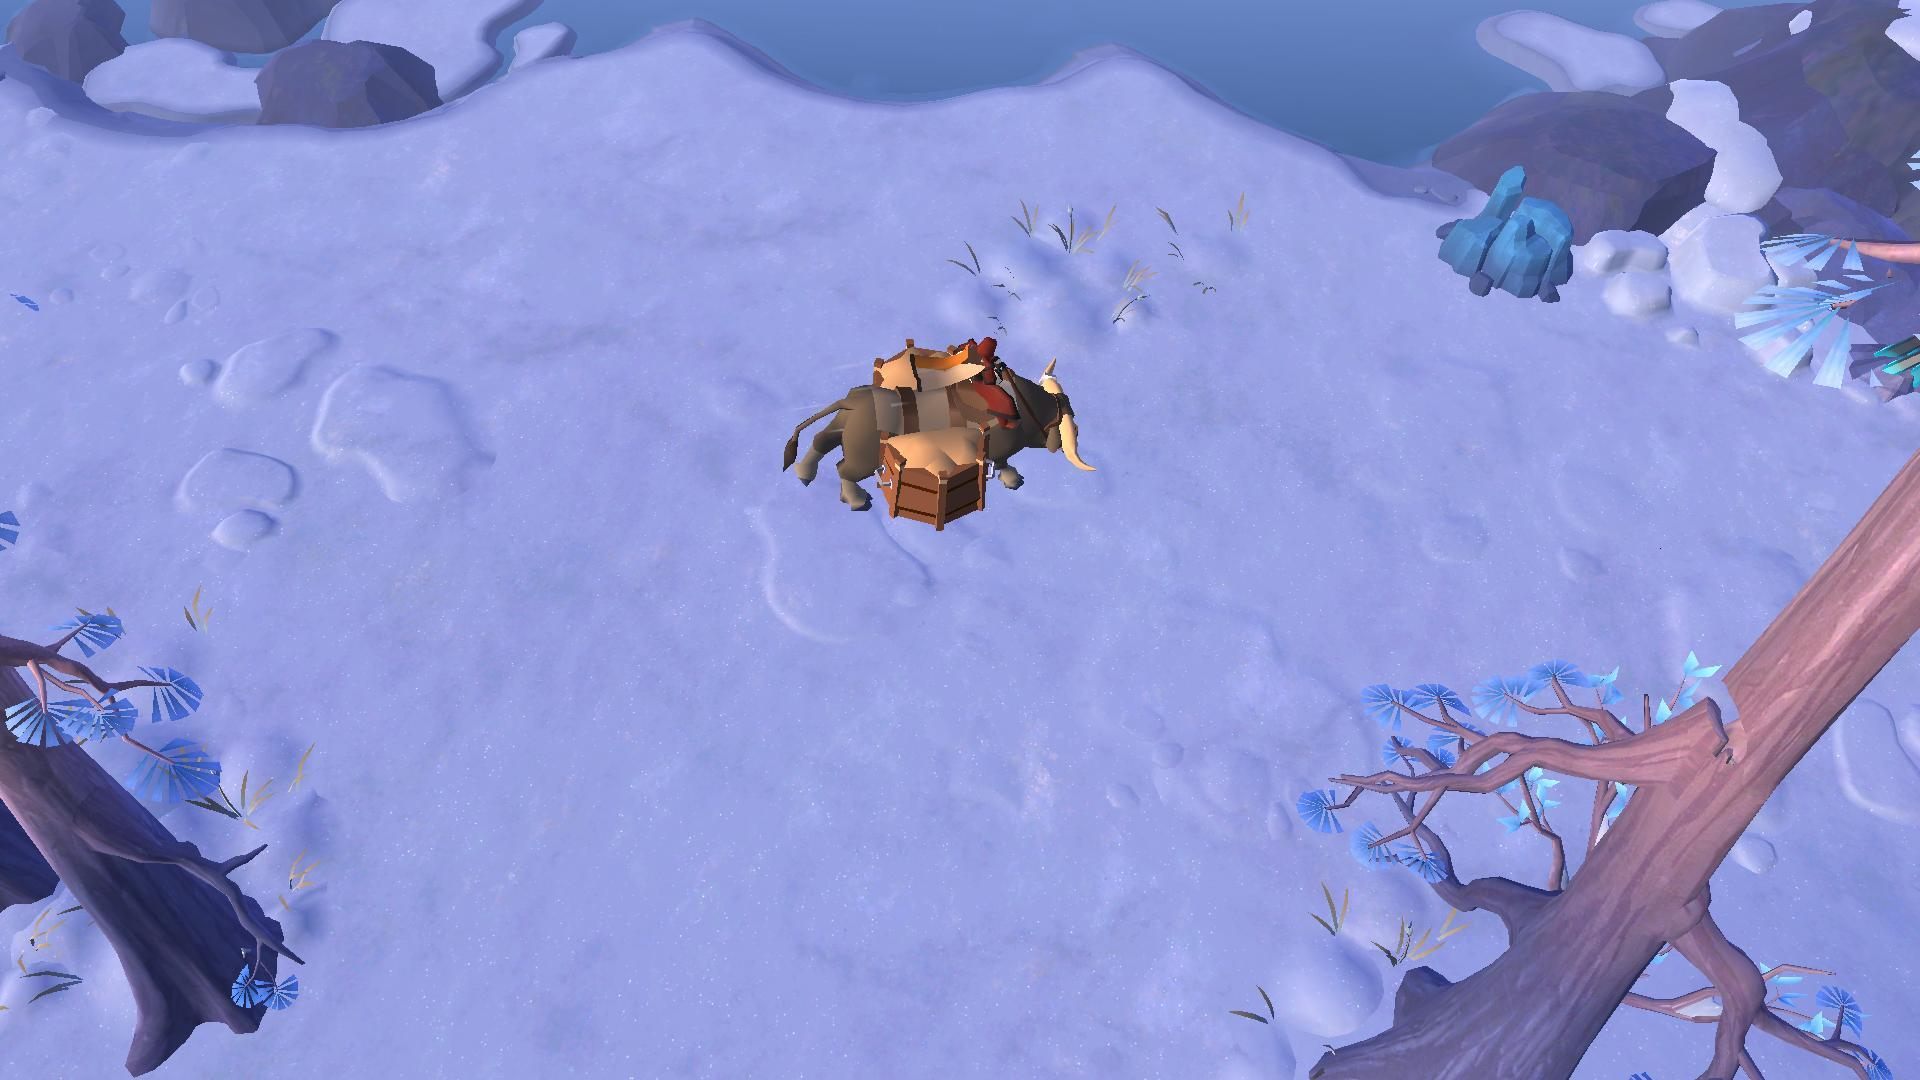rock_t4: (1422, 161, 1576, 307)
